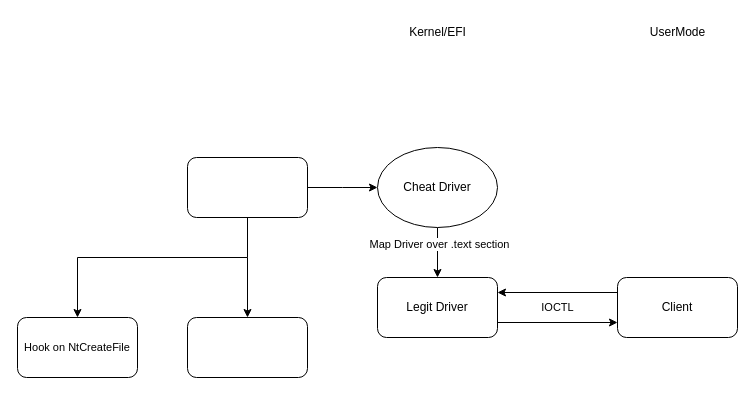
Some shapes in this 755 by 395 pixel diagram are drawn without their labels. Here are the shapes that lost their labels. From the top down, the centre of each, then its label:
point (247, 187): EFI Driver
point (247, 347): NtosKrnl.exe
